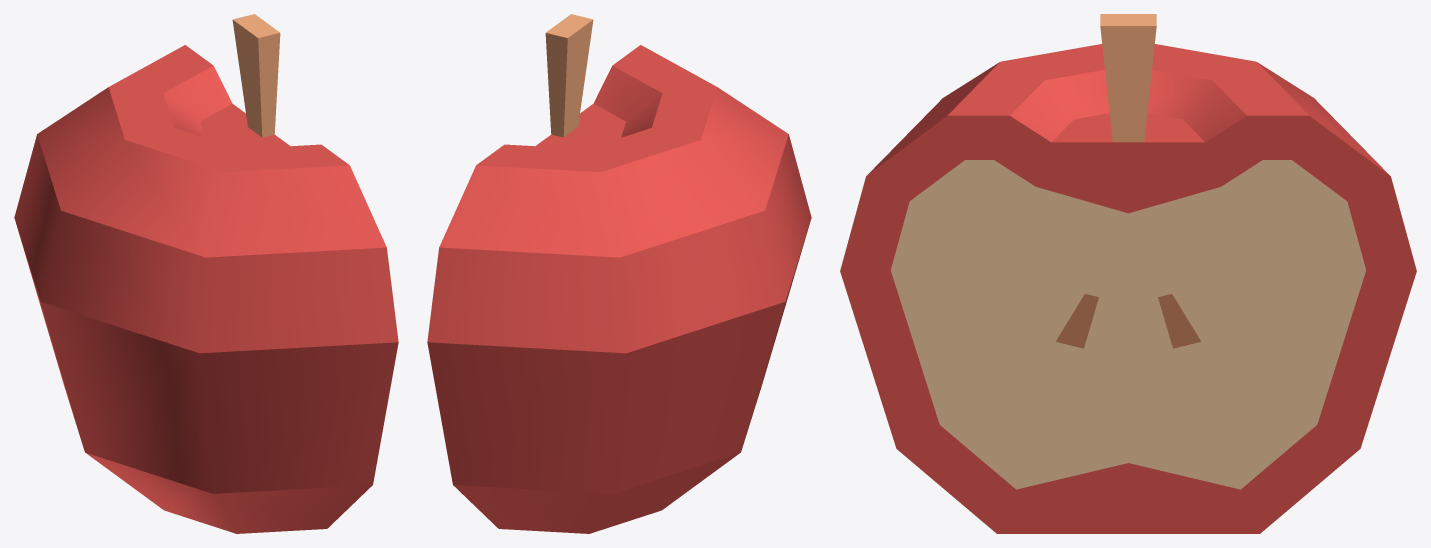
The model's file is Apple Half.glb.
3 renders of one model, left to right at view 1: azimuth 30°, elevation 25°; view 2: azimuth 150°, elevation 25°; view 3: azimuth 270°, elevation 25°, orthographic. The views are drawn at different scales.
Parts seen in each view (by area): view 1: appleHalf; view 2: appleHalf; view 3: appleHalf.
Boxes of the visible parts, box(x1,y1,x2,y2) form: appleHalf: box(14, 14, 398, 533); appleHalf: box(427, 14, 811, 533); appleHalf: box(840, 14, 1416, 533).
Size of the model in its own units: 0.0981 by 0.1908 by 0.1963.
